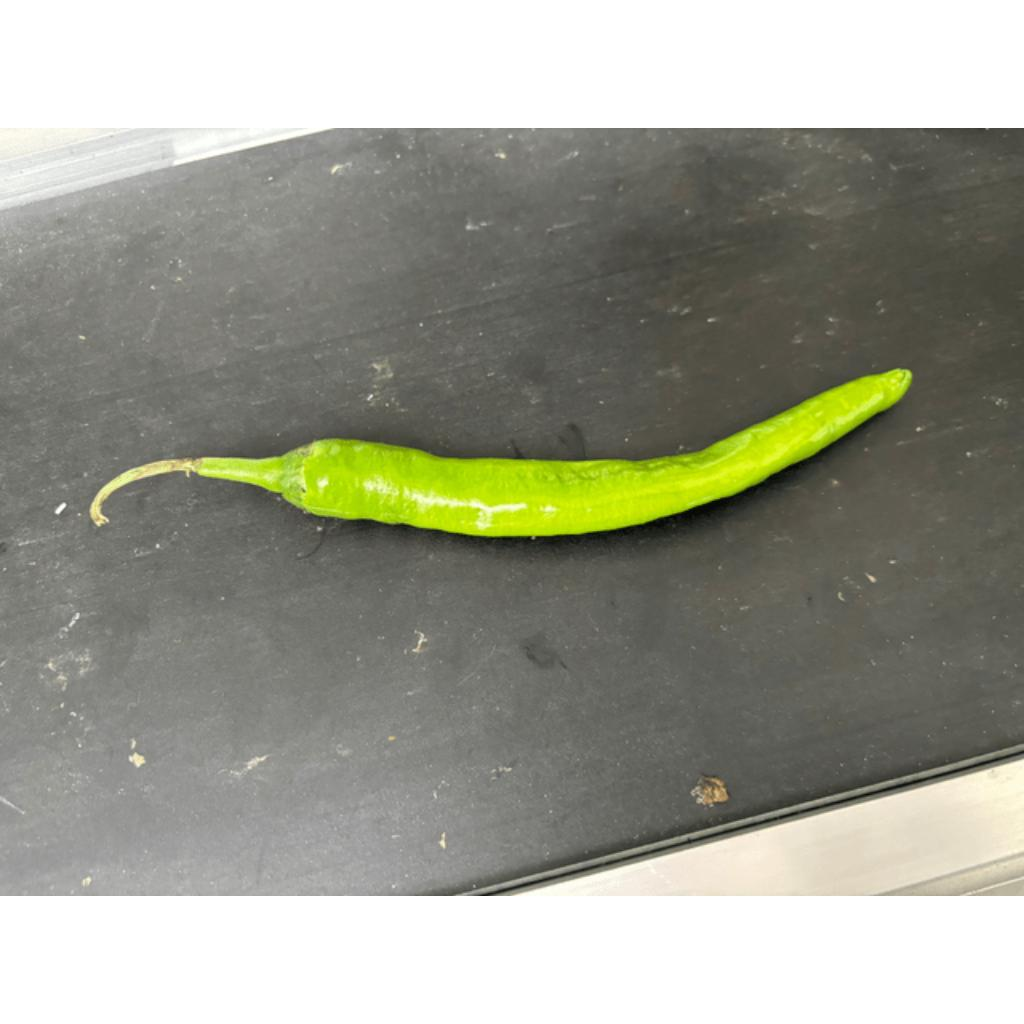chili: (270, 365, 917, 539)
